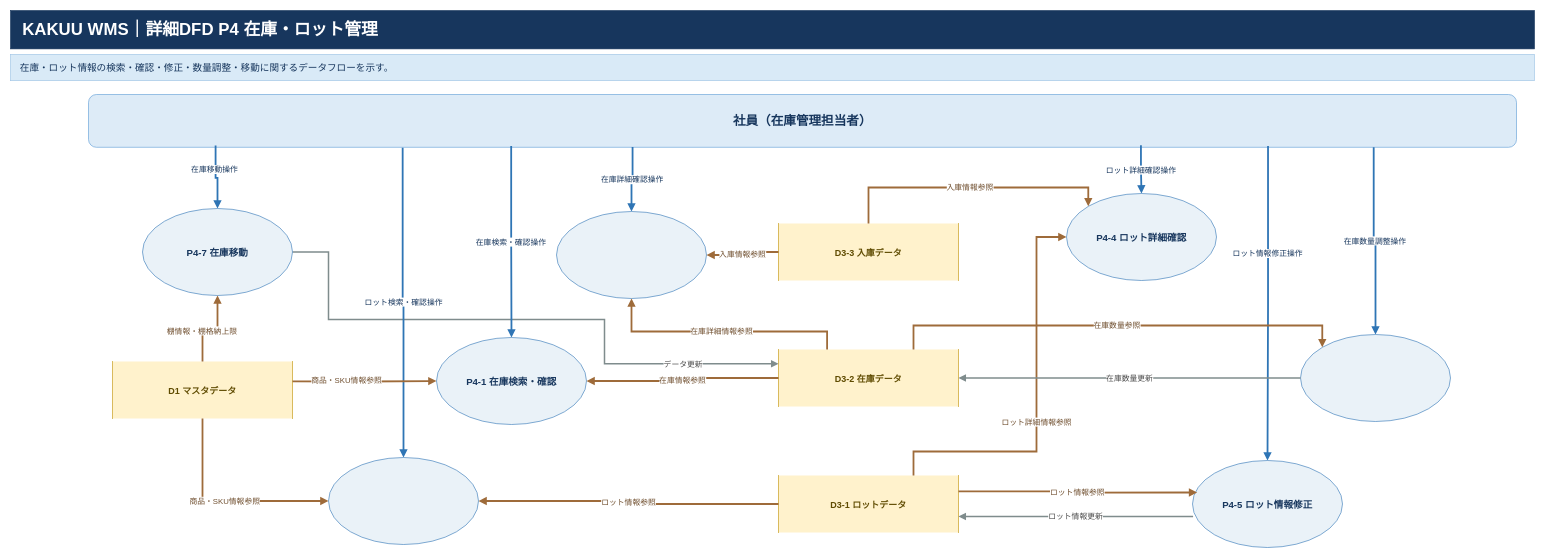
This 1545x558 diagram has some shape labels left out. Here are the shapes that lost their labels. From the top down, the centre of each, then its label:
pixel 631 254: P4-2 在庫詳細確認
pixel 1375 378: P4-6 在庫数量調整
pixel 403 500: P4-3 ロット検索・確認
